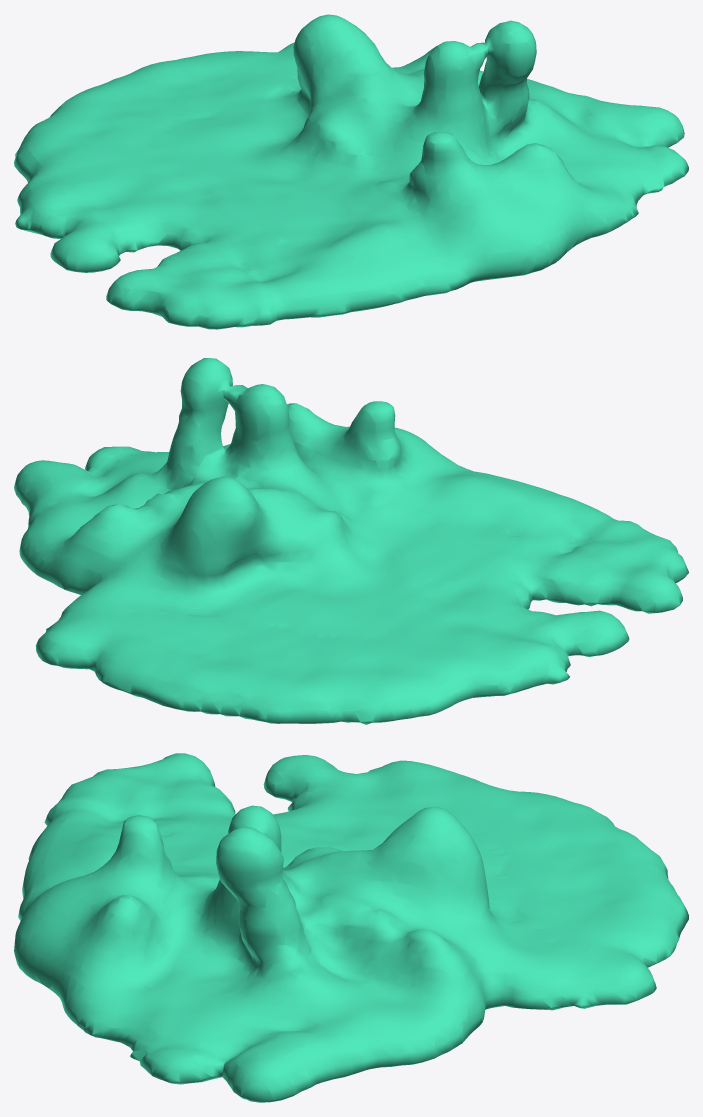
3 renders of one model, top to bottom at view 1: azimuth 30°, elevation 25°; view 2: azimuth 150°, elevation 25°; view 3: azimuth 270°, elevation 25°, orthographic. The views are drawn at different scales.
Parts seen in each view (by area): view 1: Liquid_Domain; view 2: Liquid_Domain; view 3: Liquid_Domain.
Boxes of the visible parts, left/top/right/bottom form: Liquid_Domain: left=14, top=14, right=688, bottom=329; Liquid_Domain: left=14, top=358, right=688, bottom=724; Liquid_Domain: left=14, top=753, right=688, bottom=1102.
Bounding box in the file's own units: 11.11 × 2.85 × 9.52.
